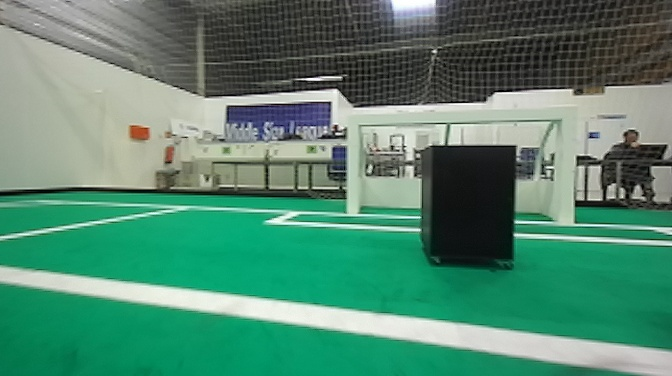goalpost: (551, 109, 574, 228), (340, 110, 364, 213)
